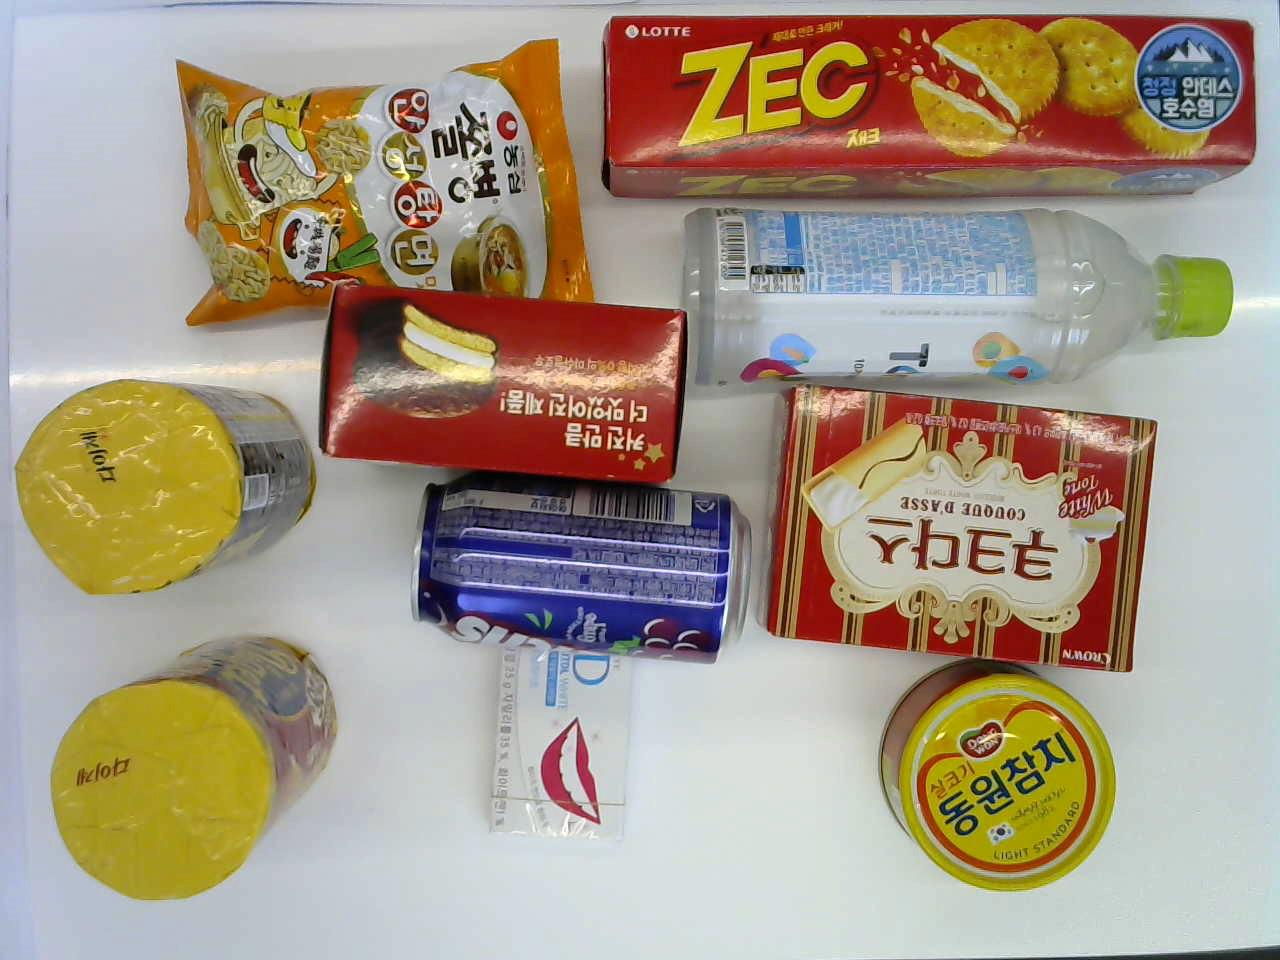ID_gum: (484, 633, 636, 855)
chocopie: (319, 282, 691, 485)
couque_white: (768, 385, 1161, 680)
diget_choco: (18, 373, 321, 615)
diget_ori: (32, 637, 337, 903)
jjolbyung_noodle: (138, 43, 593, 321)
toreta: (683, 203, 1239, 401)
tuna: (859, 662, 1113, 906)
welchs: (420, 476, 751, 675)
zec: (593, 7, 1268, 213)
